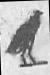G43: (3, 0, 47, 74)
